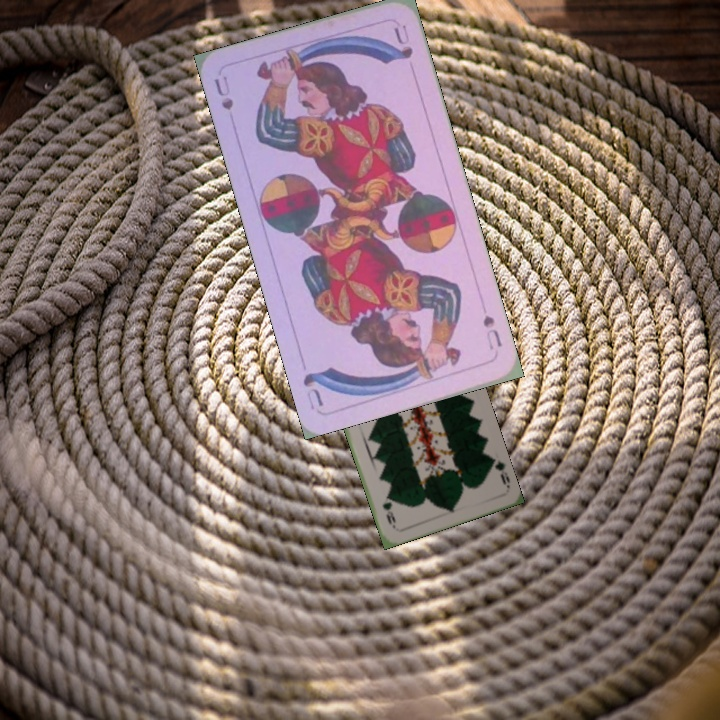G9: (486, 453, 513, 491)
SU: (478, 311, 505, 353), (210, 72, 236, 113)
